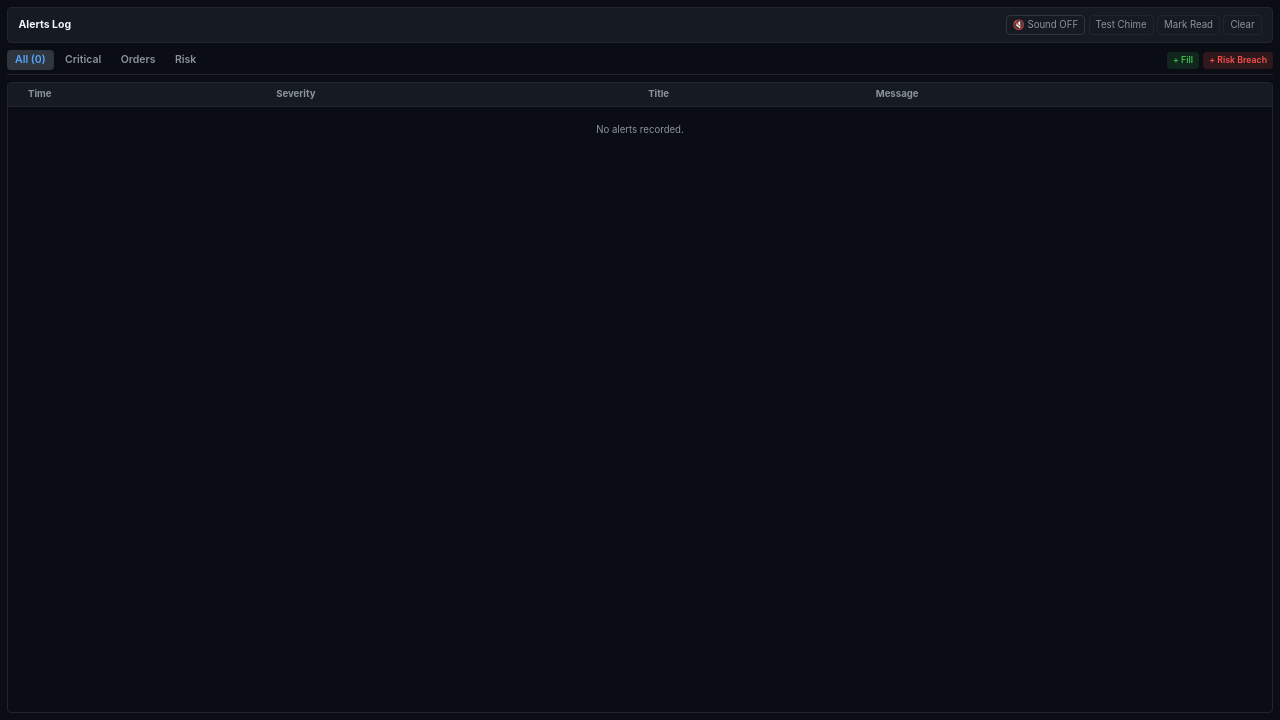
Test: AlertsLogWidget Component › simulates fill and risk breach alerts and logs to table
Click the button "+ Fill": (1183, 60) [1167, 52, 1199, 69]
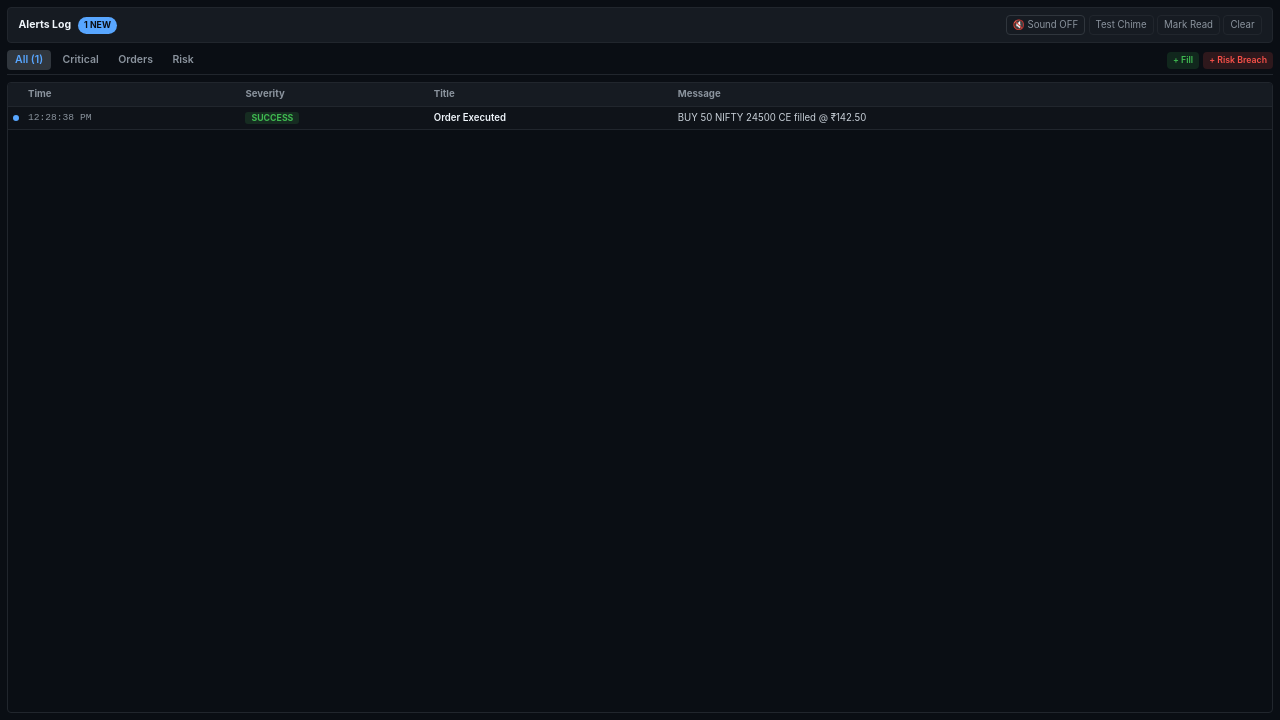
Now the text "Order Executed" is shown, box [430, 106, 674, 130]
Now the text "BUY 50 NIFTY 24500 CE filled @ ₹142.50" is shown, box [674, 106, 1272, 130]
